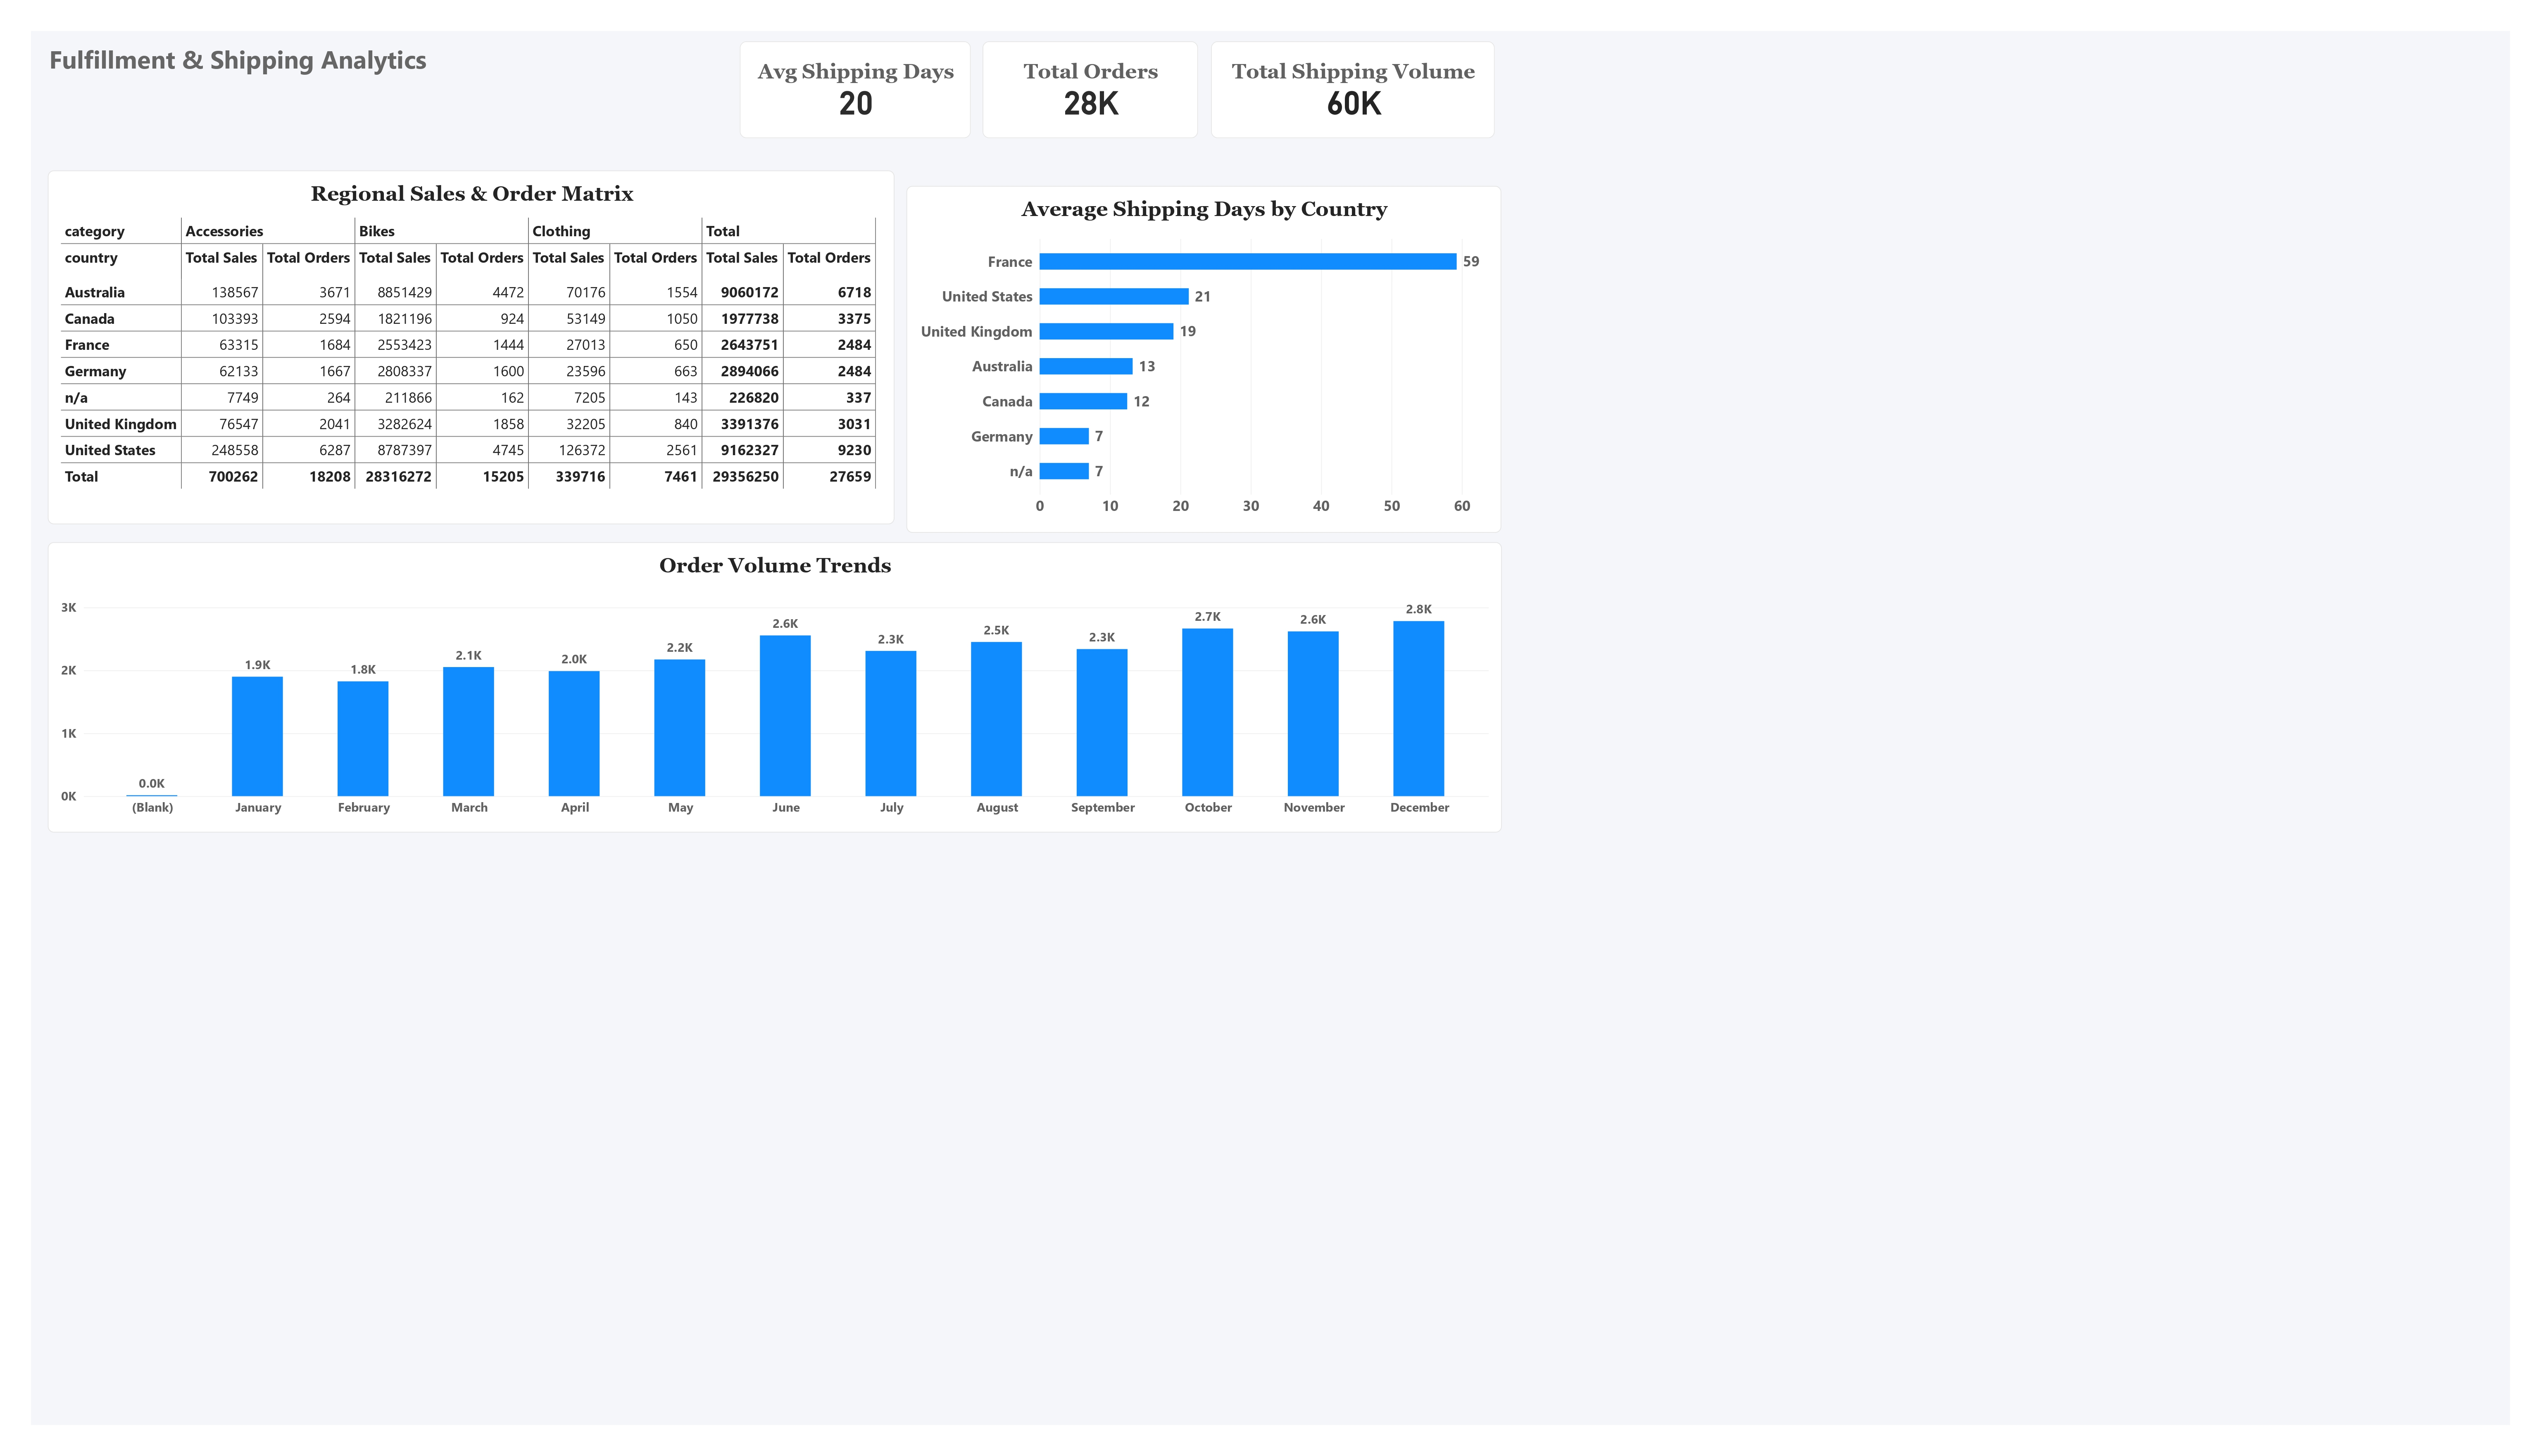

Layout of this report page (visuals, bound fields, positions):
{"tool":"powerbi","page":{"name":"Fulfillment & Shipping Analytics","canvas":[1920,1080],"ordinal":3},"visuals":[{"type":"cardVisual","fields":{"Data":["_Measures.Total Orders"]},"box":[1228.3,13.3,278.3,125],"z":1000},{"type":"cardVisual","fields":{"Data":["_Measures.Total Shipping Volume"]},"box":[1523.3,13.3,366.7,125],"z":2000},{"type":"textbox","box":[23.3,13.3,505,81.7],"z":10000},{"type":"cardVisual","fields":{"Data":["_Measures.Avg Shipping Days"]},"box":[915,13.3,298.3,125],"z":10001},{"type":"barChart","title":"Average Shipping Days by Country","fields":{"Category":["dim_customers.country"],"Y":["_Measures.Avg Shipping Days"]},"box":[1130,200,768.3,448.3],"z":10002},{"type":"clusteredColumnChart","title":"Order Volume Trends","fields":{"Category":["dim_date.Date.Variation.Date Hierarchy.Month"],"Y":["_Measures.Total Orders"]},"box":[21.7,660,1876.7,375],"z":10003},{"type":"pivotTable","title":"Regional Sales & Order Matrix","fields":{"Columns":["dim_products.category"],"Rows":["dim_customers.country"],"Values":["_Measures.Total Sales","_Measures.Total Orders"]},"box":[21.7,180,1093.3,456.7],"z":10004}]}

Visuals, with their boxes on the page's 1920x1080 design canvas (x1, y1, x2, y2). These are canvas units, not pixel positions in the 2541x1456 screenshot, which may show the page scaled, cropped or inside an application window:
cardVisual - _Measures.Total Orders: [left=1228, top=13, right=1507, bottom=138]
cardVisual - _Measures.Total Shipping Volume: [left=1523, top=13, right=1890, bottom=138]
textbox: [left=23, top=13, right=528, bottom=95]
cardVisual - _Measures.Avg Shipping Days: [left=915, top=13, right=1213, bottom=138]
"Average Shipping Days by Country" barChart: [left=1130, top=200, right=1898, bottom=648]
"Order Volume Trends" clusteredColumnChart: [left=22, top=660, right=1898, bottom=1035]
"Regional Sales & Order Matrix" pivotTable: [left=22, top=180, right=1115, bottom=637]
